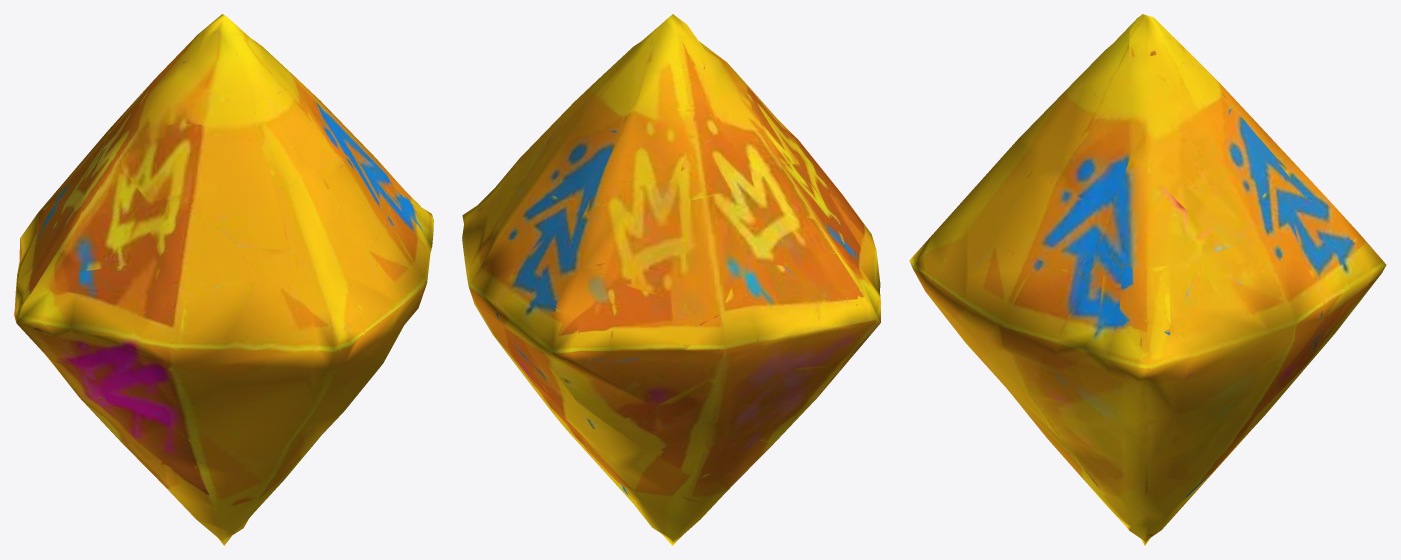
Rendered from gem_meshy.glb.
3 views of the same model, side by side, from view 1: azimuth 30°, elevation 25°; view 2: azimuth 150°, elevation 25°; view 3: azimuth 270°, elevation 25° (orthographic).
Bounding box in the file's own units: 1.56 × 1.9 × 1.54.
1 material, 1 textured.
